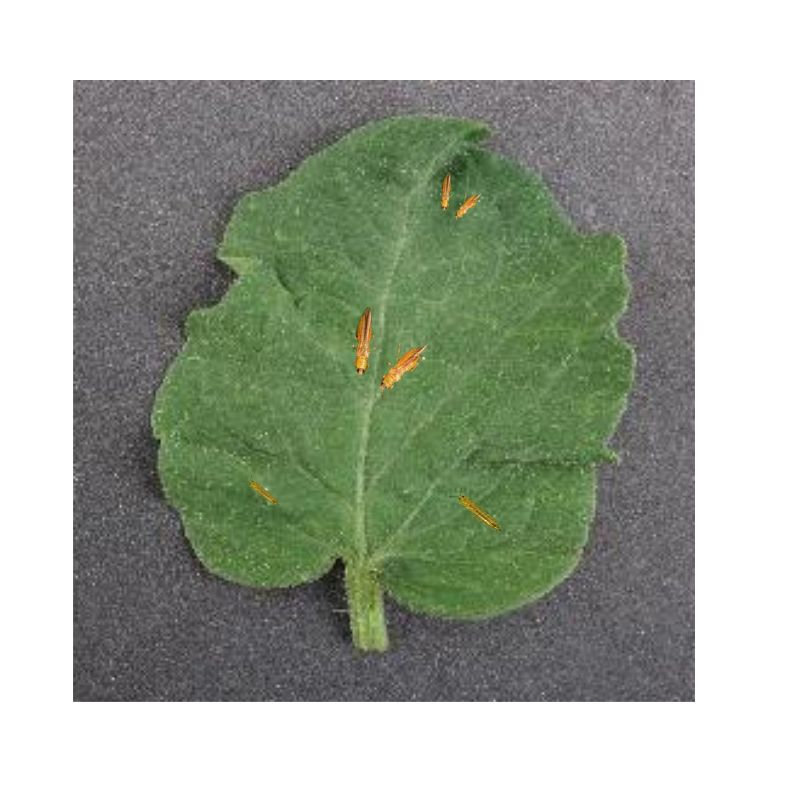thrips: (374, 337, 430, 392), (453, 490, 503, 534), (351, 302, 376, 375), (247, 476, 279, 507), (452, 191, 481, 220), (439, 171, 454, 213)
